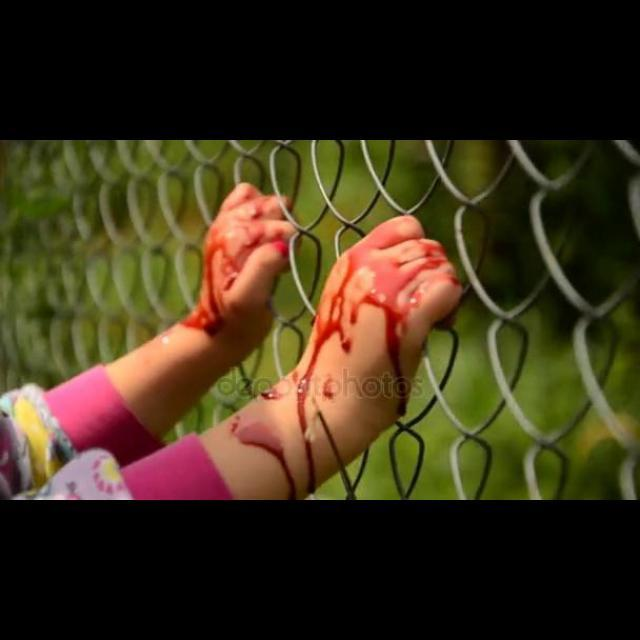blood: (263, 216, 462, 492), (180, 183, 292, 335), (232, 400, 296, 498)
